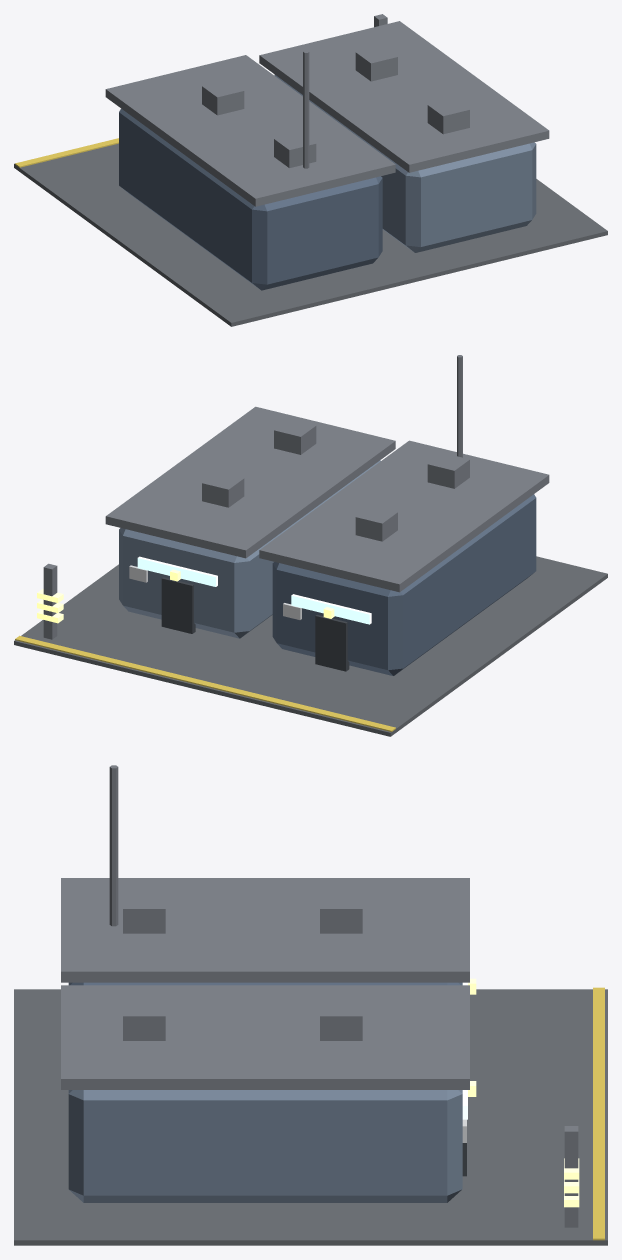
The model's file is zone_low_1_t3.glb.
3 views of the same model, one above another, from view 1: azimuth 30°, elevation 25°; view 2: azimuth 150°, elevation 25°; view 3: azimuth 270°, elevation 25° (orthographic). The views are drawn at different scales.
Parts seen in each view (by area): view 1: zone_low_1_t3, detail; view 2: zone_low_1_t3, detail; view 3: zone_low_1_t3, detail.
Part boxes in pixels (<box>): zone_low_1_t3: <box>14,21,607,326</box>; detail: <box>15,14,469,168</box>; zone_low_1_t3: <box>14,406,607,736</box>; detail: <box>15,355,469,731</box>; zone_low_1_t3: <box>14,878,607,1245</box>; detail: <box>109,765,604,1240</box>.
Size of the model in its own units: 19.6 by 11 by 19.6.
